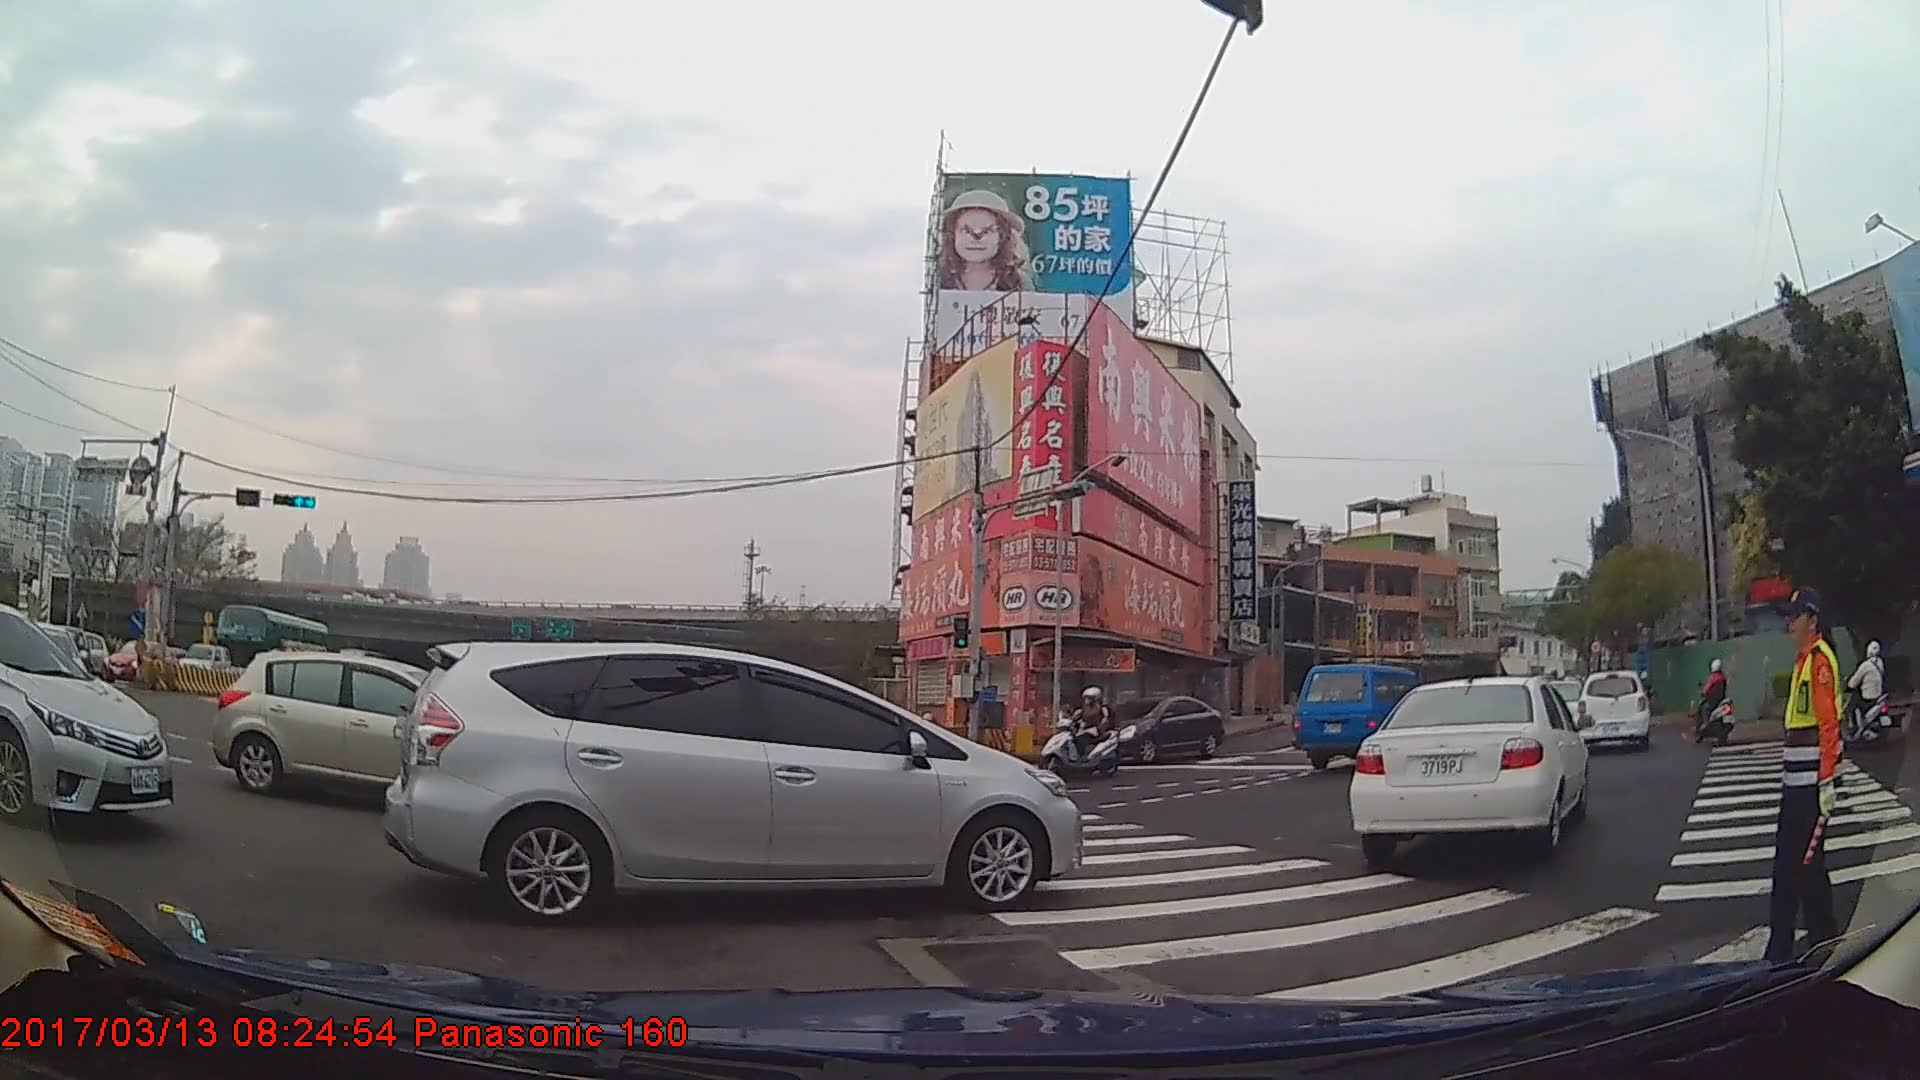pedestrian: (1757, 588, 1847, 969), (256, 637, 297, 733)
rider: (1039, 686, 1124, 779), (1838, 641, 1894, 750), (1694, 659, 1738, 748)
vehicle: (384, 640, 1085, 923), (214, 647, 502, 811), (1343, 674, 1586, 857), (0, 605, 174, 828), (1289, 664, 1431, 775), (213, 603, 329, 685), (1095, 694, 1219, 765), (1572, 669, 1647, 756), (99, 635, 178, 686), (176, 641, 229, 682)
